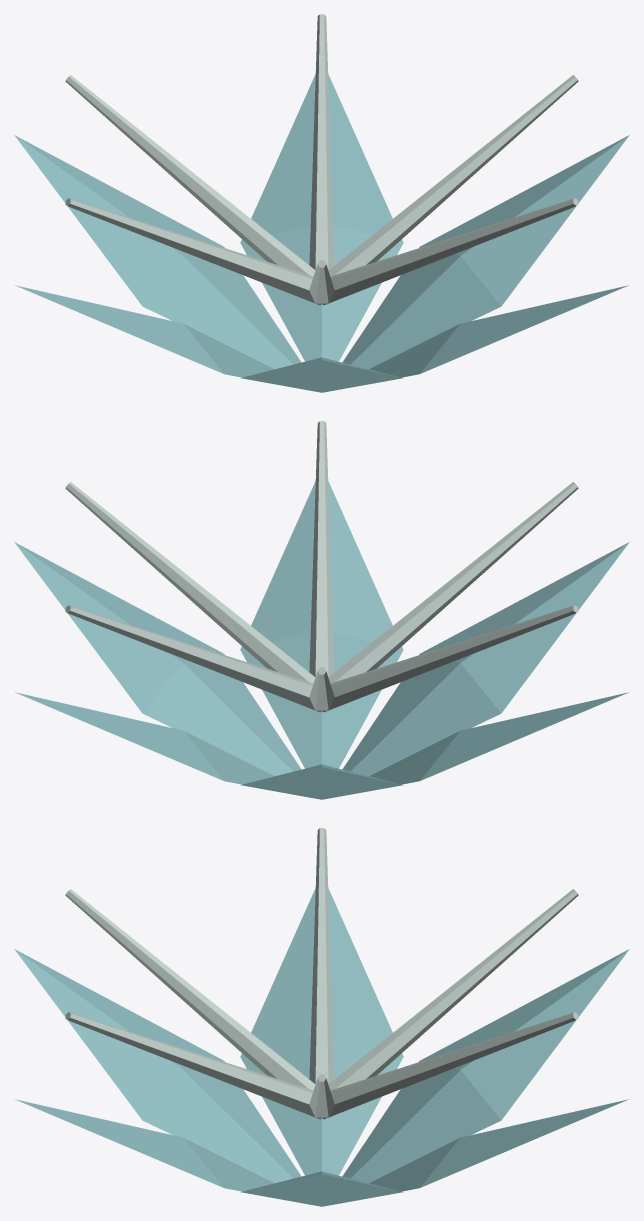
File: map-exclusive-v3__frost_07.glb
3 views of the same model, one above another, from view 1: azimuth 30°, elevation 25°; view 2: azimuth 150°, elevation 25°; view 3: azimuth 270°, elevation 25° (orthographic).
Visible parts, largest first — view 1: frost_07; view 2: frost_07; view 3: frost_07.
Boxes of the visible parts, x1=… form: frost_07: x1=14, y1=14, x2=629, y2=392; frost_07: x1=14, y1=421, x2=629, y2=799; frost_07: x1=14, y1=828, x2=629, y2=1206.
Bounding box in the file's own units: 1.48 × 0.5867 × 1.28.
